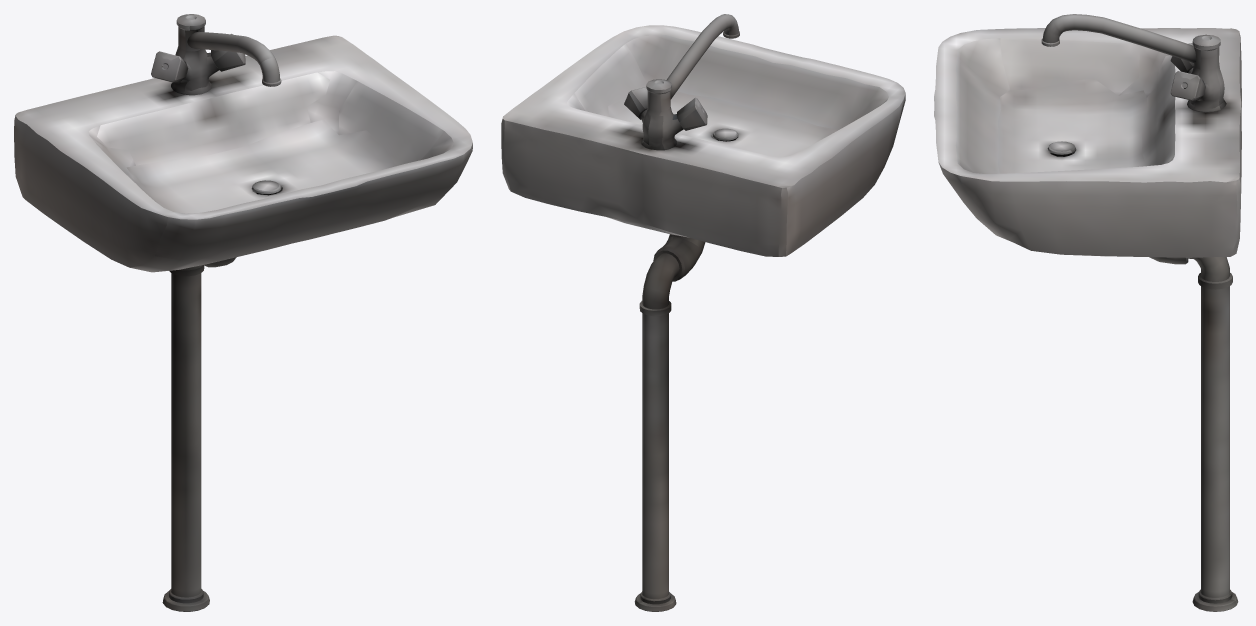
The model's file is sink_1 1.fbx.
3 renders of one model, left to right at view 1: azimuth 30°, elevation 25°; view 2: azimuth 150°, elevation 25°; view 3: azimuth 270°, elevation 25°, orthographic. The views are drawn at different scales.
Parts seen in each view (by area): view 1: sink_1; view 2: sink_1; view 3: sink_1.
Boxes of the visible parts, x1,y1,x2,y2 form: sink_1: (14, 14, 472, 611); sink_1: (501, 14, 905, 611); sink_1: (934, 14, 1241, 611).
Bounding box in the file's own units: 0.6456 × 1.14 × 0.5433.
